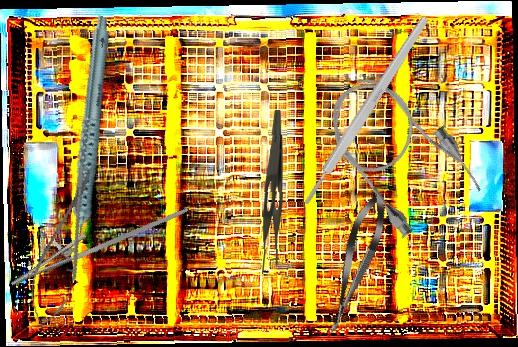Cannula: (309, 56, 490, 247)
Dressing Forceps: (256, 110, 285, 274)
Handpiece: (14, 13, 158, 259)
Micro Scissor: (19, 154, 110, 335), (318, 189, 394, 337)
Needle Holder: (2, 173, 190, 308)
Scalpel Handle: (299, 14, 432, 207)
